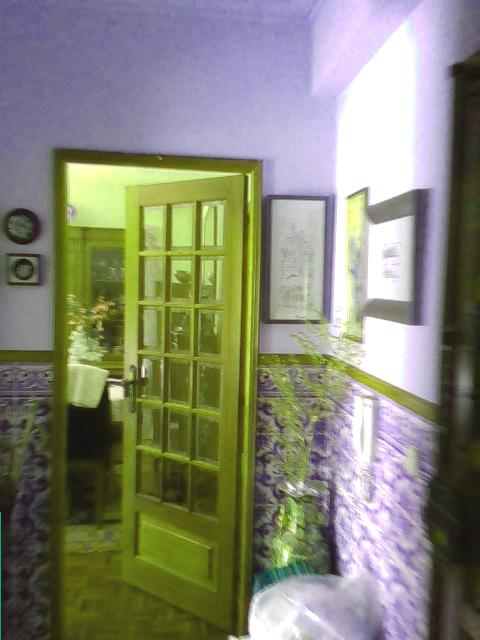semi_door: (53, 145, 265, 639)
